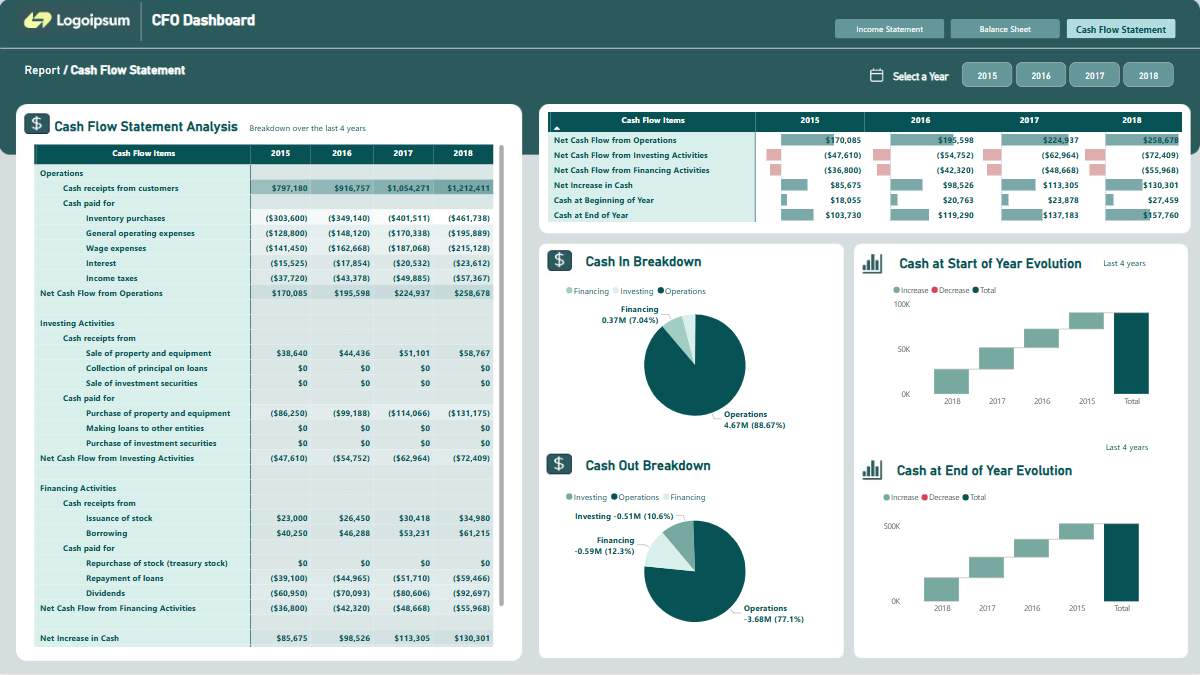

This screenshot's page, from the dashboard's own definition file:
{"tool":"powerbi","page":{"name":"Cash Flow Statement","canvas":[1920,1080],"ordinal":2},"visuals":[{"type":"advancedSlicerVisual","fields":{"Values":["Dates.Year"]},"box":[1532.5,95.7,351.4,50],"z":0,"group":"g2"},{"type":"textbox","box":[34,98,450,32],"z":0},{"type":"image","box":[1381.1,102.8,41.7,35],"z":0,"group":"g1"},{"type":"image","box":[22.9,0,205.7,64.3],"z":1000},{"type":"group","id":"g1","title":"Group 1","box":[1381.1,102.8,164.3,35.7],"z":1000,"group":"g2"},{"type":"textbox","box":[1422.8,106.1,123.3,33.3],"z":1000,"group":"g1"},{"type":"textbox","box":[237.1,14.3,322.9,50],"z":2000},{"type":"group","id":"g2","title":"Group 2","box":[1381.1,95.7,502.9,50],"z":3000},{"type":"pivotTable","fields":{"Rows":["Cash Flow Template.Row Index","Cash Flow Template.Cash Flow Items"],"Values":["Measures  Table.C/F Values"],"Columns":["Dates.Year"]},"box":[50,228,762,814],"z":4000},{"type":"textbox","box":[81.7,185.3,405.6,40.9],"z":5000},{"type":"textbox","box":[394,192,280,40],"z":6000},{"type":"pivotTable","fields":{"Rows":["Cash Flow Template.Row Index","Cash Flow Template.Cash Flow Items"],"Values":["Measures  Table.C/F Values"],"Columns":["Dates.Year"]},"box":[872,176,1032,186],"z":7000},{"type":"pieChart","fields":{"Y":["Measures  Table.Cash Receipts From - Financing","Measures  Table.Cash Receipts From - Investing","Measures  Table.Cash Receipts From - Operations"]},"box":[900,446,424,250],"z":8000},{"type":"textbox","box":[932,402,244,40],"z":9000},{"type":"textbox","box":[932,728,242,42],"z":10000},{"type":"pieChart","fields":{"Y":["Measures  Table.Cash Paid For - Investing","Measures  Table.Cash Paid For - Operations","Measures  Table.Cash Paid For - Financing"]},"box":[900,776,424,250],"z":11000},{"type":"waterfallChart","fields":{"Category":["Dates.Year"],"Y":["Measures  Table.Cash A Start Of Year"]},"box":[1424,446,450,216],"z":12000},{"type":"waterfallChart","fields":{"Category":["Dates.Year"],"Y":["Measures  Table.Cash at End of Year"]},"box":[1408,778,450,216],"z":13000},{"type":"textbox","box":[1434,406,326,42],"z":14000},{"type":"textbox","box":[1430,736,326,42],"z":15000},{"type":"textbox","box":[1760,408,110,40],"z":16000},{"type":"textbox","box":[1764,702,110,40],"z":17000},{"type":"pageNavigator","box":[1336.2,32.5,547.5,31.2],"z":18000}]}

Visuals, with their boxes in screenshot pixels (x1, y1, x2, y2), scaled from the page's 1920x1080 canvas onto the 1200x675 screenshot:
advancedSlicerVisual - Dates.Year: 958:60:1177:91
textbox: 21:61:302:81
image: 863:64:889:86
image: 14:0:143:40
"Group 1" group: 863:64:966:87
textbox: 889:66:966:87
textbox: 148:9:350:40
"Group 2" group: 863:60:1178:91
pivotTable - Cash Flow Template.Row Index x Cash Flow Template.Cash Flow Items: 31:142:508:651
textbox: 51:116:305:141
textbox: 246:120:421:145
pivotTable - Cash Flow Template.Row Index x Cash Flow Template.Cash Flow Items: 545:110:1190:226
pieChart - Measures  Table.Cash Receipts From - Financing x Measures  Table.Cash Receipts From - Investing: 562:279:828:435
textbox: 582:251:735:276
textbox: 582:455:734:481
pieChart - Measures  Table.Cash Paid For - Investing x Measures  Table.Cash Paid For - Operations: 562:485:828:641
waterfallChart - Dates.Year x Measures  Table.Cash A Start Of Year: 890:279:1171:414
waterfallChart - Dates.Year x Measures  Table.Cash at End of Year: 880:486:1161:621
textbox: 896:254:1100:280
textbox: 894:460:1098:486
textbox: 1100:255:1169:280
textbox: 1102:439:1171:464
pageNavigator: 835:20:1177:40
